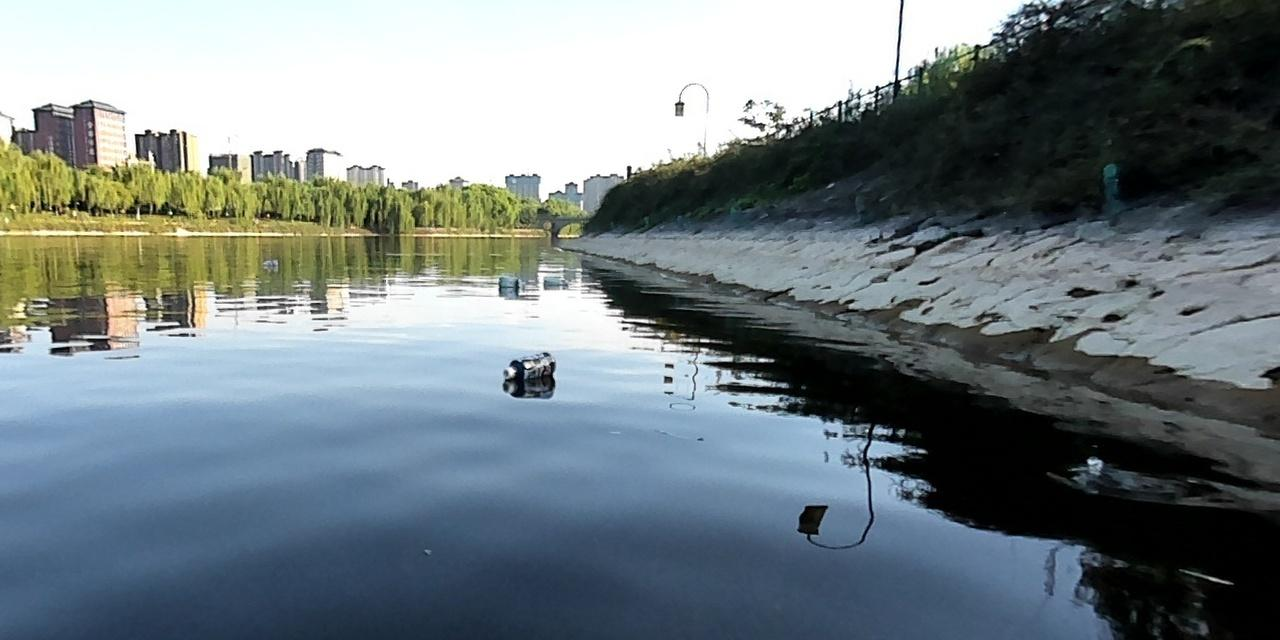bottle: (498, 347, 559, 384), (492, 271, 527, 289), (540, 272, 570, 287), (257, 256, 281, 268)
